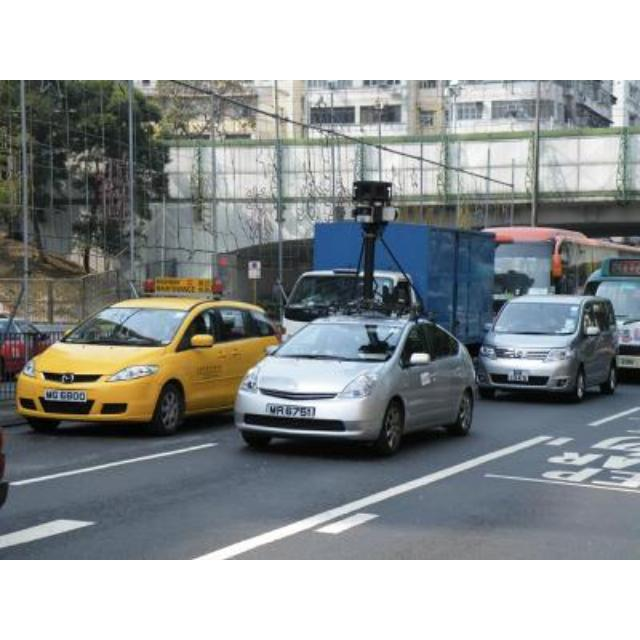car: (14, 296, 288, 436), (232, 311, 478, 457), (474, 294, 620, 401)
plate: (269, 403, 317, 422), (46, 387, 92, 405), (501, 368, 533, 386), (616, 355, 638, 369)
